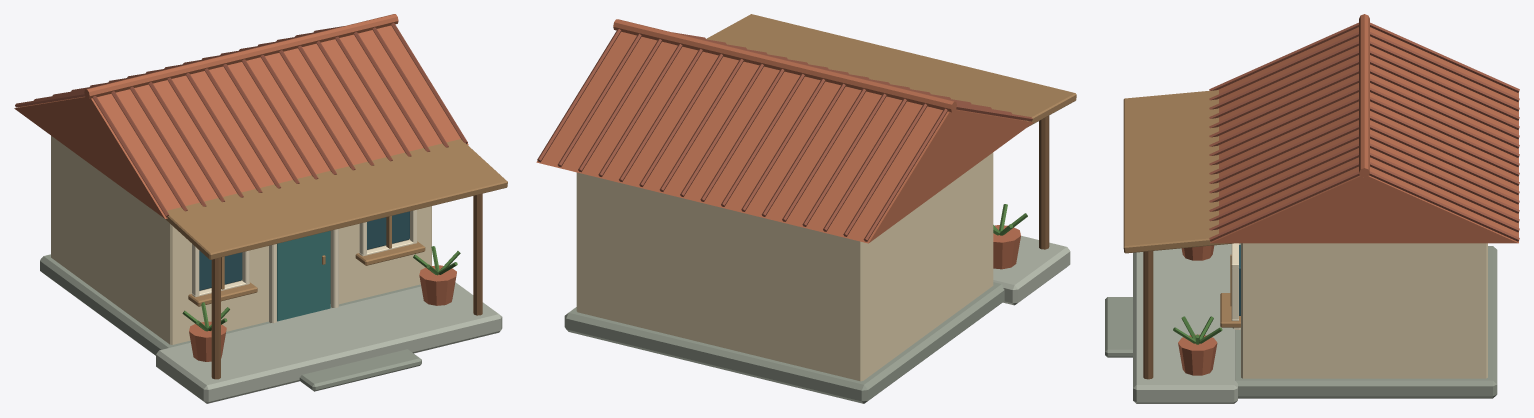
File: cottage.glb
The picture shows the model from 3 angles, left to right: view 1: azimuth 30°, elevation 25°; view 2: azimuth 150°, elevation 25°; view 3: azimuth 270°, elevation 25°; orthographic projection. The views are drawn at different scales.
Visible parts, largest first — view 1: cottage_roof, cottage_plaster, cottage_wood_light, cottage_stone_light, cottage_roof_dark, cottage_stone, cottage_door, cottage_trim, cottage_wood, cottage_glass, cottage_palm; view 2: cottage_plaster, cottage_roof, cottage_roof_dark, cottage_wood_light, cottage_stone, cottage_stone_light, cottage_wood; view 3: cottage_roof, cottage_plaster, cottage_roof_dark, cottage_wood_light, cottage_stone_light, cottage_stone, cottage_wood, cottage_trim, cottage_palm.
Boxes of the visible parts, x1,y1,x2,y2 form: cottage_roof: (14,14,468,361); cottage_plaster: (51,136,431,344); cottage_wood_light: (165,139,507,306); cottage_stone_light: (156,282,502,403); cottage_roof_dark: (15,23,467,217); cottage_stone: (40,254,421,391); cottage_door: (277,231,330,321); cottage_trim: (192,209,417,323); cottage_wood: (211,193,482,379); cottage_glass: (199,211,409,290); cottage_palm: (182,246,460,331); cottage_plaster: (576,152,993,381); cottage_roof: (536,19,1033,269); cottage_roof_dark: (537,29,1032,241); cottage_wood_light: (706,14,1076,127); cottage_stone: (564,282,1004,403); cottage_stone_light: (993,235,1070,305); cottage_wood: (1039,115,1049,249); cottage_roof: (1178,14,1518,375); cottage_plaster: (1241,243,1487,378); cottage_roof_dark: (1209,22,1519,241); cottage_wood_light: (1123,90,1240,327); cottage_stone_light: (1133,244,1237,403); cottage_stone: (1105,246,1497,398); cottage_wood: (1143,251,1153,379); cottage_trim: (1231,243,1240,329); cottage_palm: (1173,316,1222,344).
Size of what is drawn, in the model's own units: 5.9 by 4.29 by 6.72.
